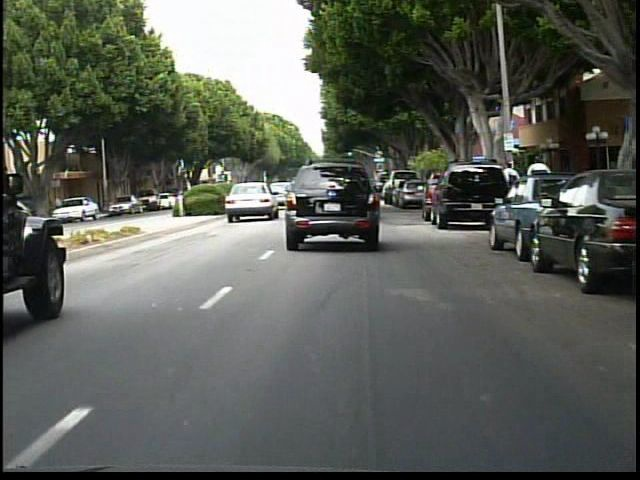person: (523, 153, 552, 217), (498, 159, 522, 214), (50, 191, 70, 224)
